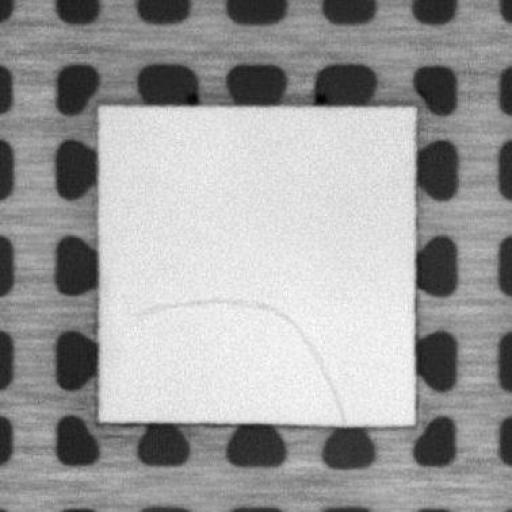DIE_CRACK: (137, 289, 345, 418)
